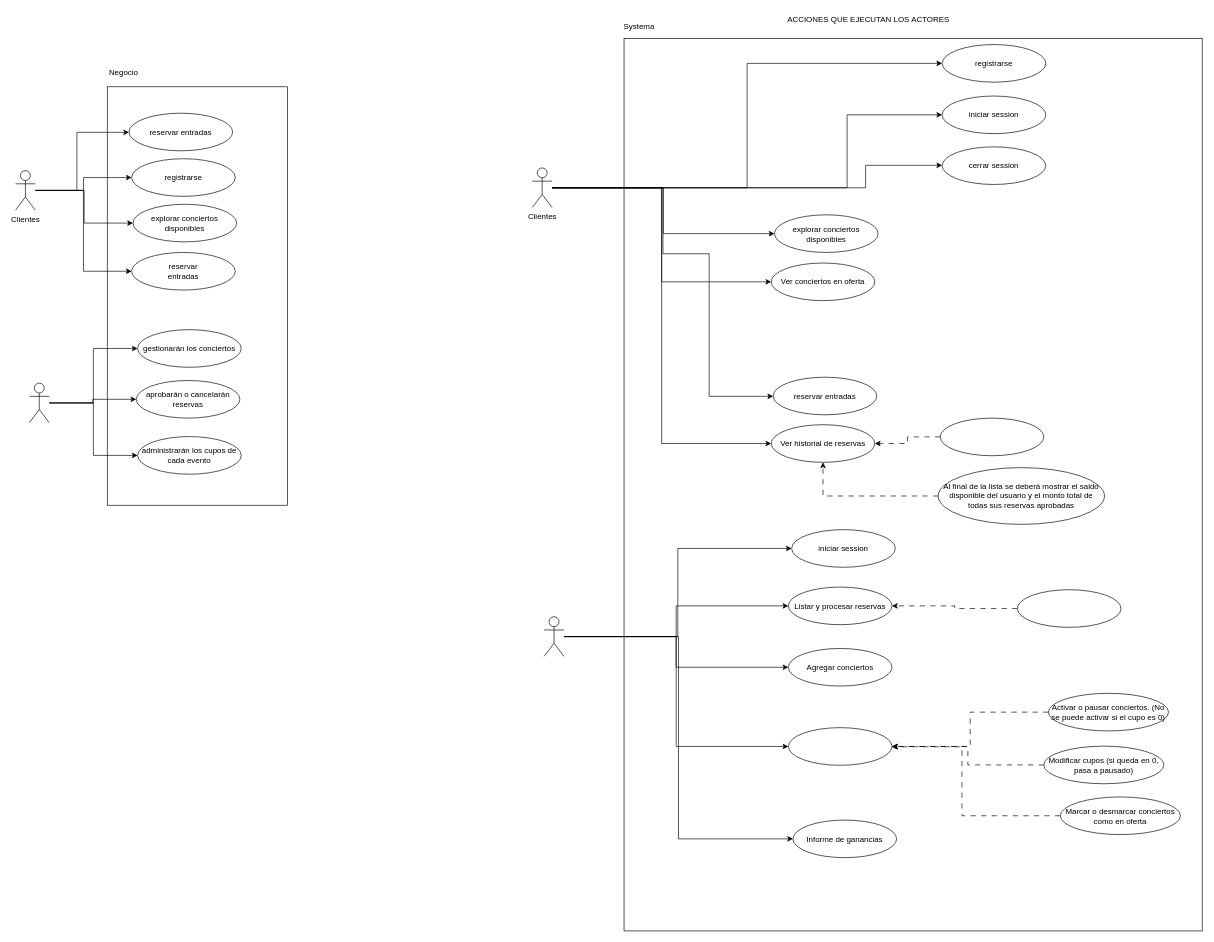
Some shapes in this 1214 by 942 pixel diagram are drawn without their labels. The box of each missing label's shape, as (x1, y1, x2, y2) in pixels:
Actor: (29, 382, 49, 423)
Administrador: (544, 616, 564, 656)
Administrar conciertos: (788, 727, 892, 765)
cancelar las reservas pendientes: (940, 417, 1044, 456)
Pasar a aprobada: (1017, 589, 1121, 627)
